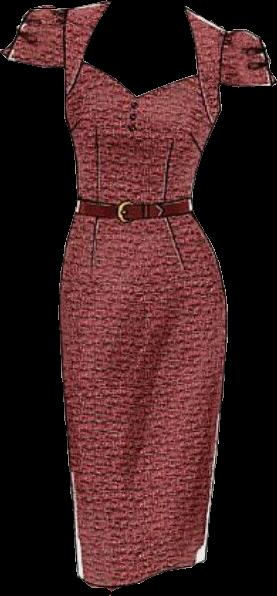Bodice: (63, 0, 228, 220)
Neckline: (79, 0, 202, 100), (62, 0, 112, 110), (185, 5, 215, 129)
Skirt: (58, 212, 227, 589)
Sleeve: (0, 5, 63, 67), (220, 29, 276, 87)
Sleeveline: (215, 30, 234, 85), (56, 8, 67, 68)
Waistline: (76, 558, 209, 593), (73, 207, 193, 225)
